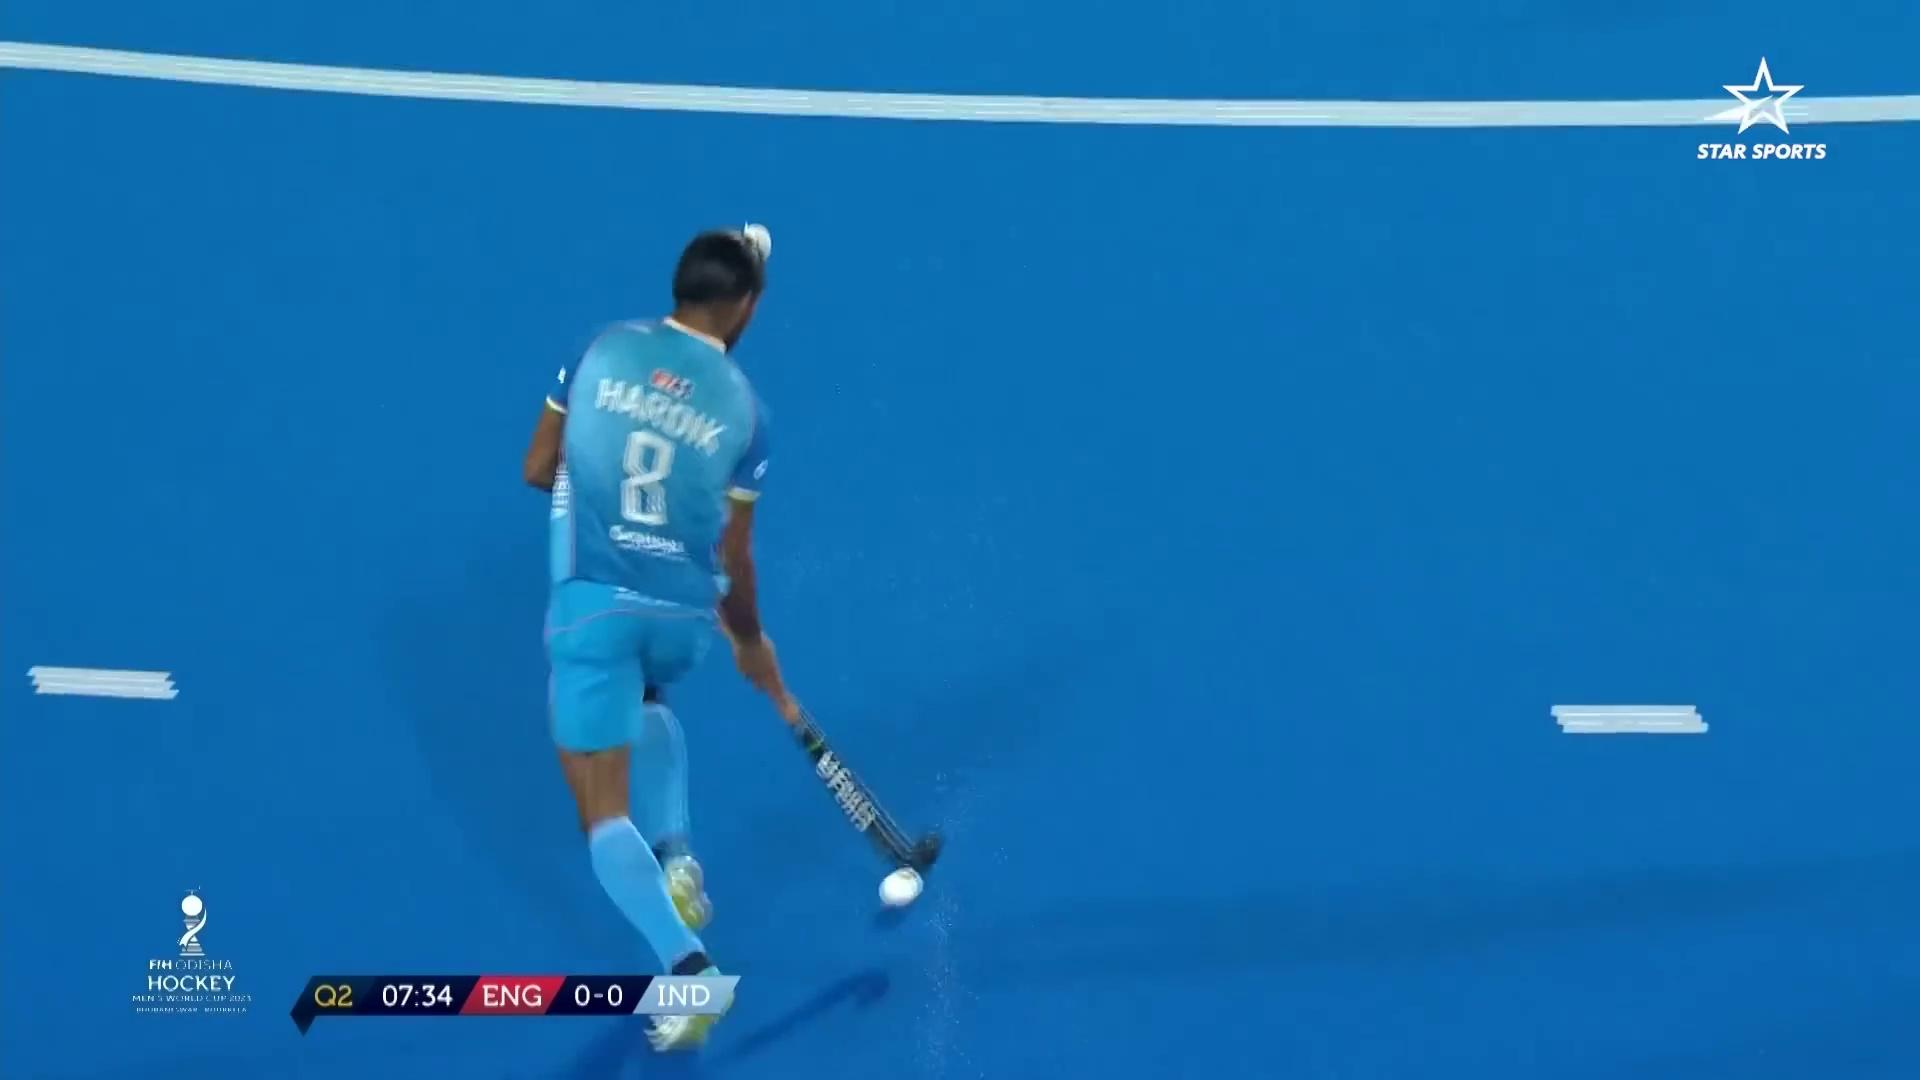ball: (853, 857, 957, 916)
